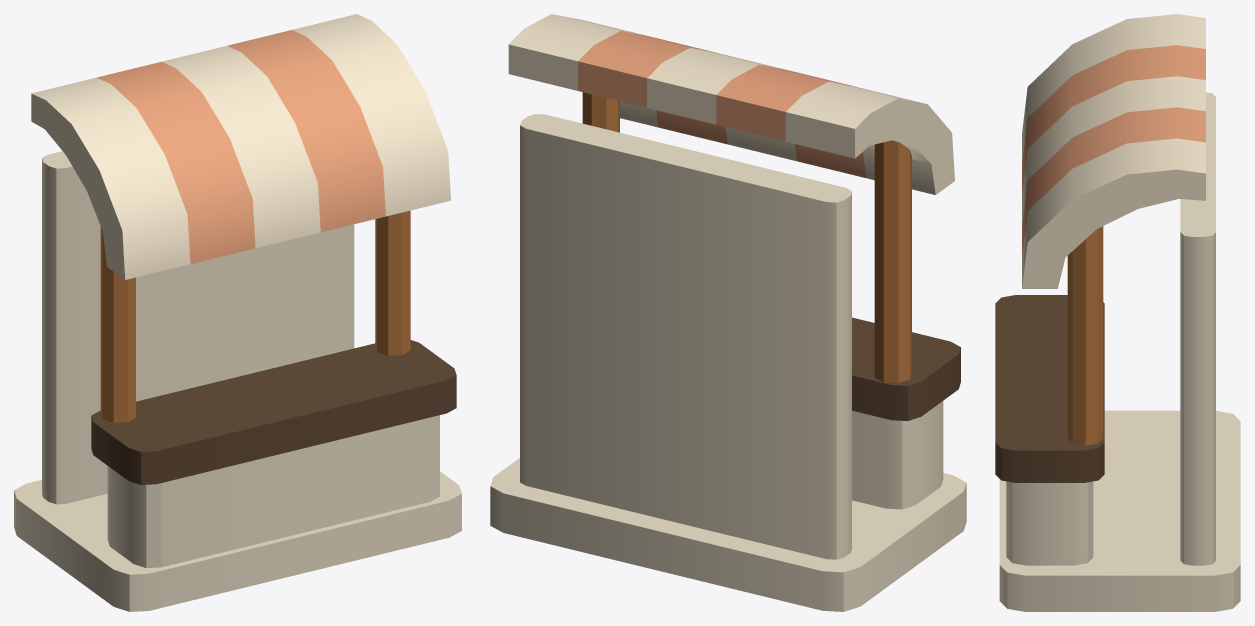
Rendered from striped-snack-kiosk.glb.
3 views of the same model, side by side, from view 1: azimuth 30°, elevation 25°; view 2: azimuth 150°, elevation 25°; view 3: azimuth 270°, elevation 25° (orthographic). The views are drawn at different scales.
Visible parts, largest first — view 1: striped-snack-kiosk; view 2: striped-snack-kiosk; view 3: striped-snack-kiosk.
Part boxes in pixels (x1,y1,x2,y2): striped-snack-kiosk: (14, 14, 461, 611); striped-snack-kiosk: (490, 14, 966, 611); striped-snack-kiosk: (995, 14, 1240, 611).
Size of the model in its own units: 3.5 by 4.33 by 2.2.
2 materials, 2 textured.
